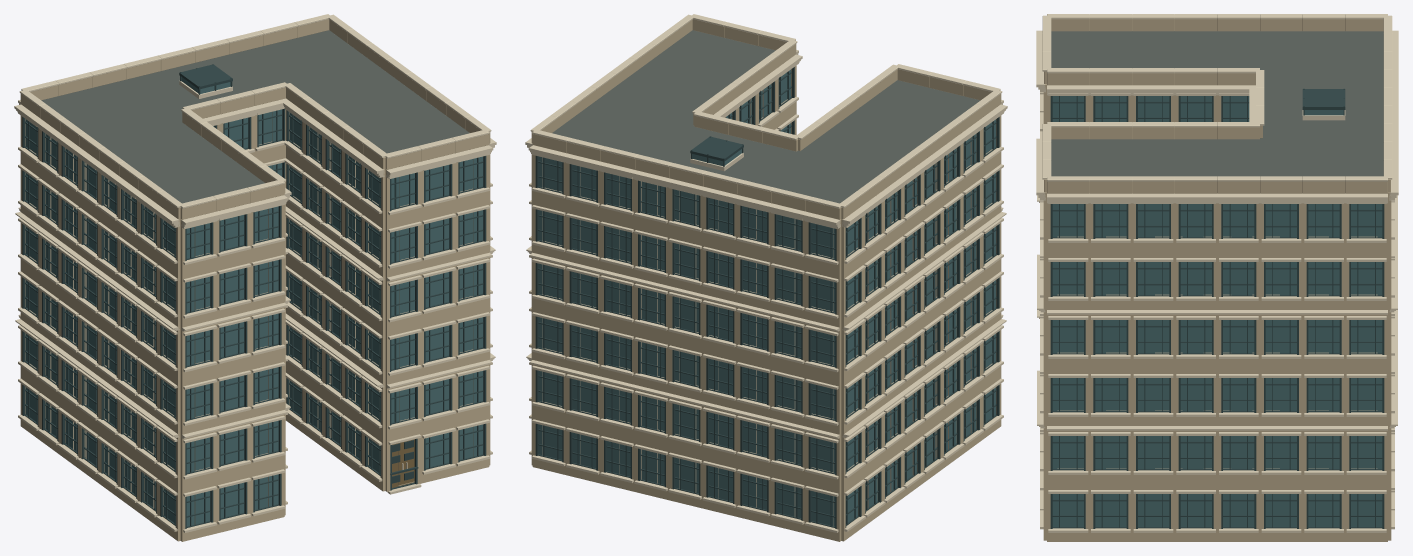
The model's file is u-hotel.glb.
3 views of the same model, side by side, from view 1: azimuth 30°, elevation 25°; view 2: azimuth 150°, elevation 25°; view 3: azimuth 270°, elevation 25° (orthographic). The views are drawn at different scales.
Parts seen in each view (by area): view 1: Roof main.018, Roof right.003, Roof left.003, Foundation.036, left/north/0/1667/wall.003, left/north/2/1667/wall.001, left/north/4/1667/wall, collection/roof/frame.008, right/north/0/1667/frame.003, right/north/2/1667/wall.001, right/north/4/1667/wall, left/north/2/8333/wall.001 (+72 smaller); view 2: Roof main.018, Roof right.003, Roof left.003, Foundation.036, main/south/0/556/wall.002, main/south/2/556/wall.002, main/south/4/556/wall.001, collection/roof/frame.008, main/south/2/2778/wall.002, main/south/0/9444/wall.002, main/south/0/2778/wall.002, main/south/0/5000/wall.011 (+97 smaller); view 3: Roof main.018, Roof right.003, Roof left.003, Foundation.036, main/east/0/5000/wall.008, main/east/2/5000/wall.006, main/east/4/5000/wall.002, right/east/0/7000/wall.002, right/east/2/7000/wall.001, right/east/4/7000/wall, main/east/0/1667/wall.003, main/east/1/5000/glass.011 (+168 smaller).
Boxes of the visible parts, x1,y1,x2,y2 form: Roof main.018: (41,30,386,142); Roof right.003: (304,72,469,169); Roof left.003: (99,122,264,219); Foundation.036: (29,112,473,524); left/north/0/1667/wall.003: (180,480,216,541); left/north/2/1667/wall.001: (180,373,216,434); left/north/4/1667/wall: (180,266,216,327); collection/roof/frame.008: (179,64,232,94); right/north/0/1667/frame.003: (390,438,418,490); right/north/2/1667/wall.001: (385,323,420,384); right/north/4/1667/wall: (385,216,420,277); left/north/2/8333/wall.001: (250,356,284,417); Roof main.018: (552,101,882,219); Roof right.003: (596,30,775,124); Roof left.003: (798,80,980,171); Foundation.036: (542,89,992,525); main/south/0/556/wall.002: (805,480,841,541); main/south/2/556/wall.002: (805,373,841,434); main/south/4/556/wall.001: (805,266,841,327); collection/roof/frame.008: (690,136,743,166); main/south/2/2778/wall.002: (737,356,771,417); main/south/0/9444/wall.002: (532,413,566,475); main/south/0/2778/wall.002: (737,463,771,525); main/south/0/5000/wall.011: (669,447,703,508); Roof main.018: (1260,31,1383,176); Roof right.003: (1051,139,1259,176); Roof left.003: (1051,31,1259,67); Foundation.036: (1057,236,1377,468); main/east/0/5000/wall.008: (1302,484,1345,541); main/east/2/5000/wall.006: (1302,368,1345,425); main/east/4/5000/wall.002: (1302,252,1345,309); right/east/0/7000/wall.002: (1089,484,1132,541); right/east/2/7000/wall.001: (1089,368,1132,425); right/east/4/7000/wall: (1089,252,1132,309); main/east/0/1667/wall.003: (1345,484,1387,541); main/east/1/5000/glass.011: (1308,436,1339,468).
Bounding box in the file's own units: 19.01 × 18.87 × 17.01.
